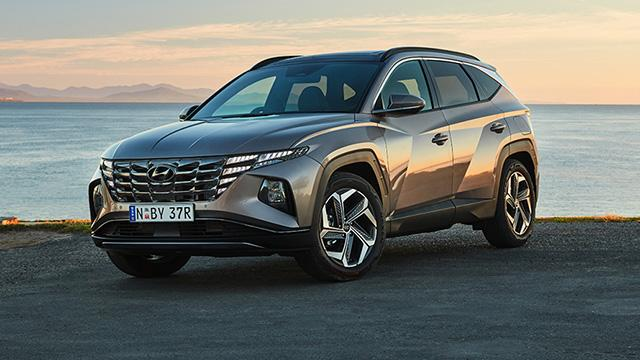hyundai: (88, 47, 540, 281)
